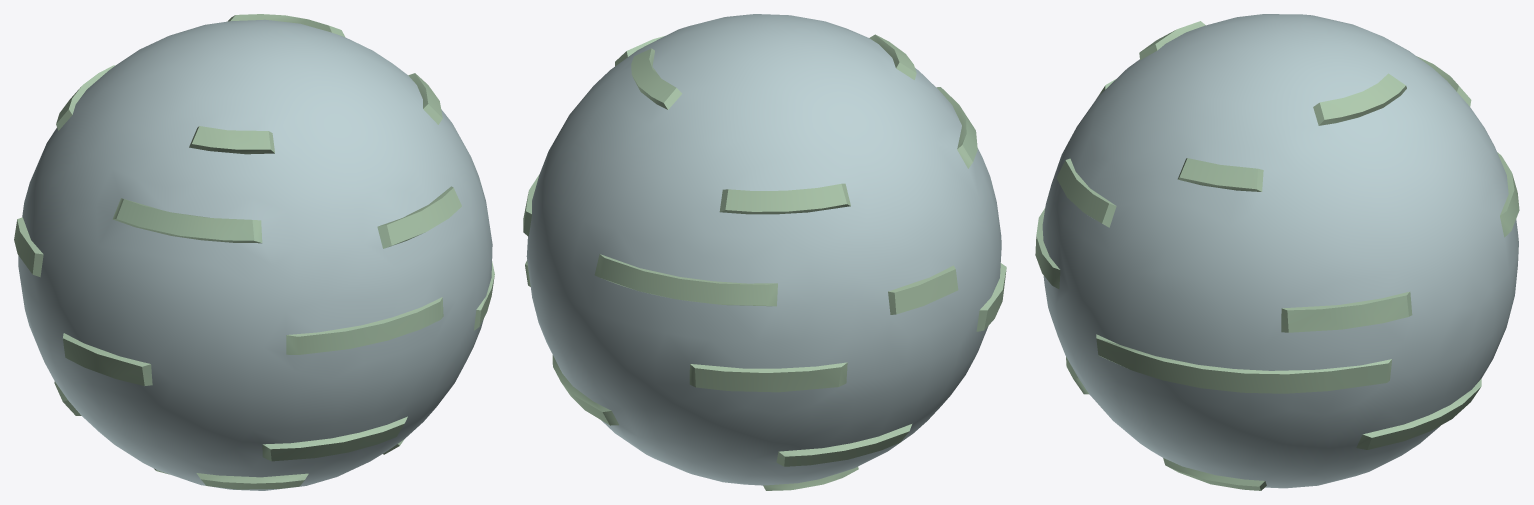
The model's file is q-planet-phzz4emvvm.glb.
The picture shows the model from 3 angles, left to right: view 1: azimuth 30°, elevation 25°; view 2: azimuth 150°, elevation 25°; view 3: azimuth 270°, elevation 25°; orthographic projection.
Visible parts, largest first — view 1: Planet_9; view 2: Planet_9; view 3: Planet_9.
Part boxes in pixels (x1,y1,x2,y2): Planet_9: (14,14,494,490); Planet_9: (523,14,1006,490); Planet_9: (1035,14,1519,490).
Bounding box in the file's own units: 3.82 × 3.75 × 3.81.
Materials: 1 (1 with a texture image).
